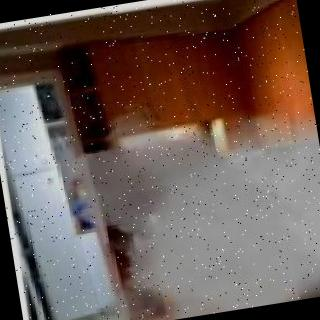smoke: (109, 66, 320, 320)
